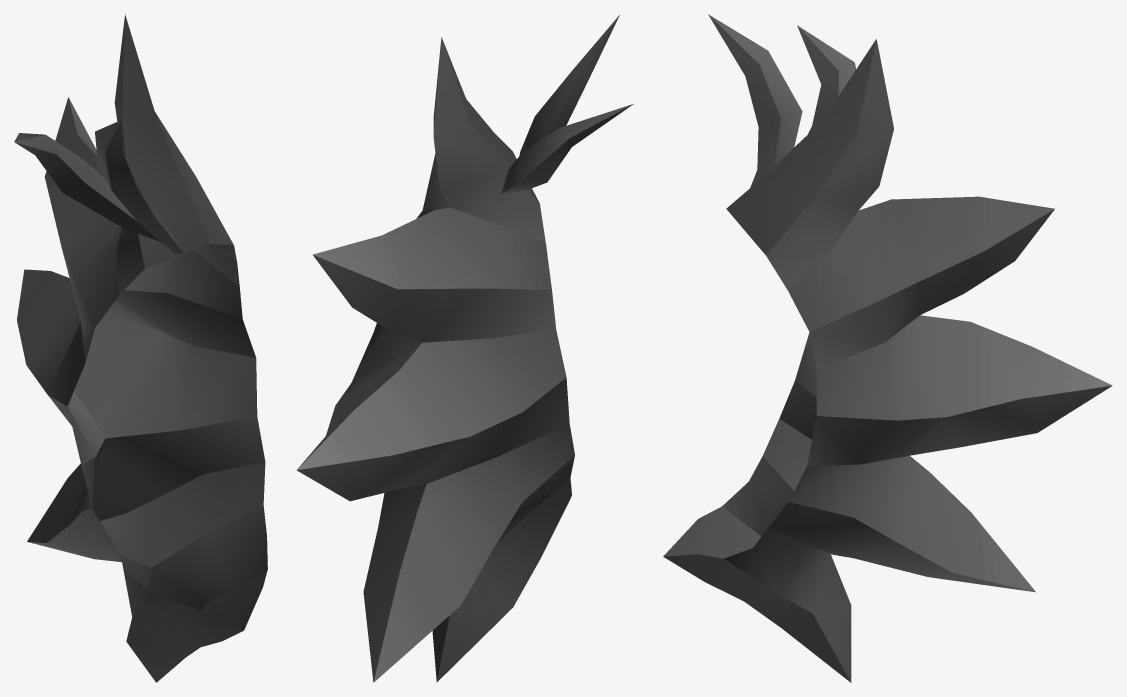
File: Hair 02.FBX
3 renders of one model, left to right at view 1: azimuth 30°, elevation 25°; view 2: azimuth 150°, elevation 25°; view 3: azimuth 270°, elevation 25°, orthographic. The views are drawn at different scales.
Parts seen in each view (by area): view 1: Hair 02; view 2: Hair 02; view 3: Hair 02.
Part boxes in pixels (x1=…): Hair 02: x1=14, y1=14, x2=267, y2=682; Hair 02: x1=296, y1=15, x2=633, y2=682; Hair 02: x1=663, y1=14, x2=1112, y2=682.
Bounding box in the file's own units: 30.98 × 77.85 × 49.91.
